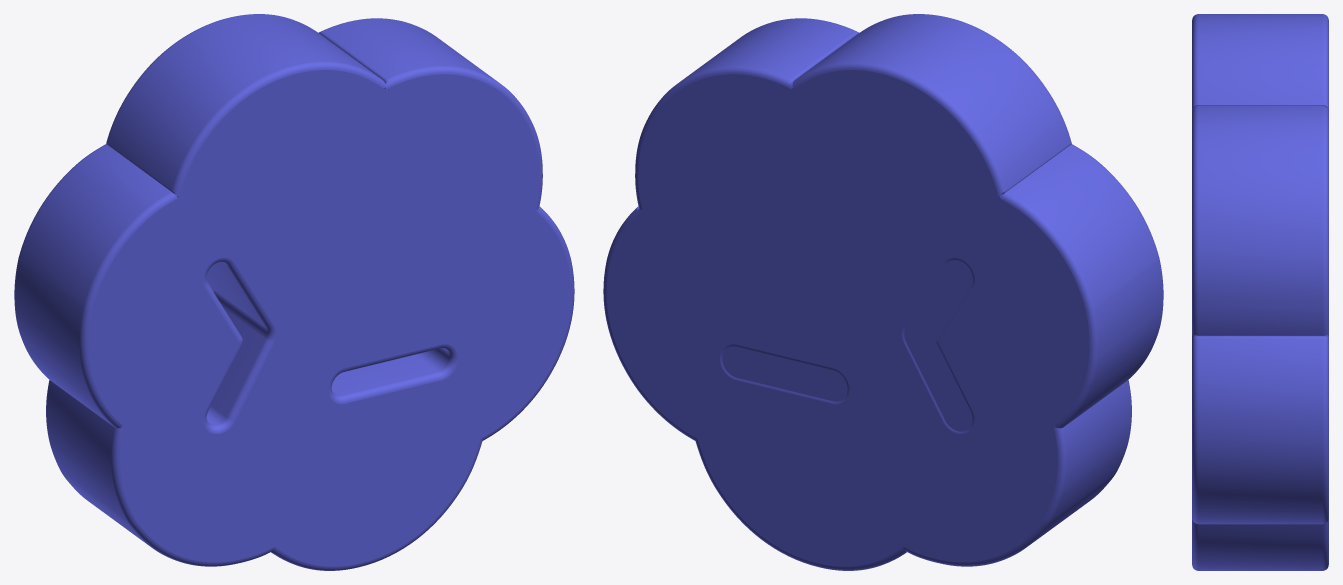
Rendered from codex.glb.
The picture shows the model from 3 angles, left to right: view 1: azimuth 30°, elevation 25°; view 2: azimuth 150°, elevation 25°; view 3: azimuth 270°, elevation 25°; orthographic projection. The views are drawn at different scales.
Visible parts, largest first — view 1: codex_canonical_0; view 2: codex_canonical_0, codex_rear; view 3: codex_canonical_0.
Part boxes in pixels (x1,y1,x2,y2): codex_canonical_0: (14, 14, 574, 570); codex_canonical_0: (603, 14, 1163, 570); codex_rear: (722, 260, 972, 431); codex_canonical_0: (1192, 14, 1328, 570).
Bounding box in the file's own units: 1.02 × 1.02 × 0.254.
